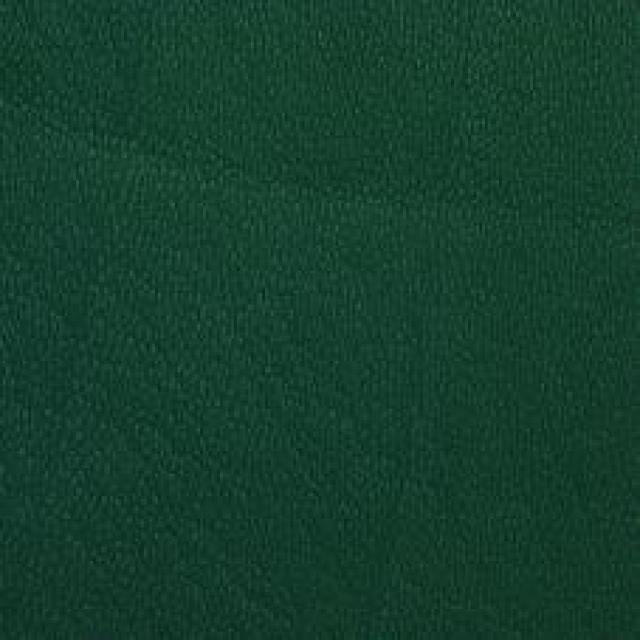Growth Marks: (120, 115, 387, 248), (392, 130, 614, 265)
